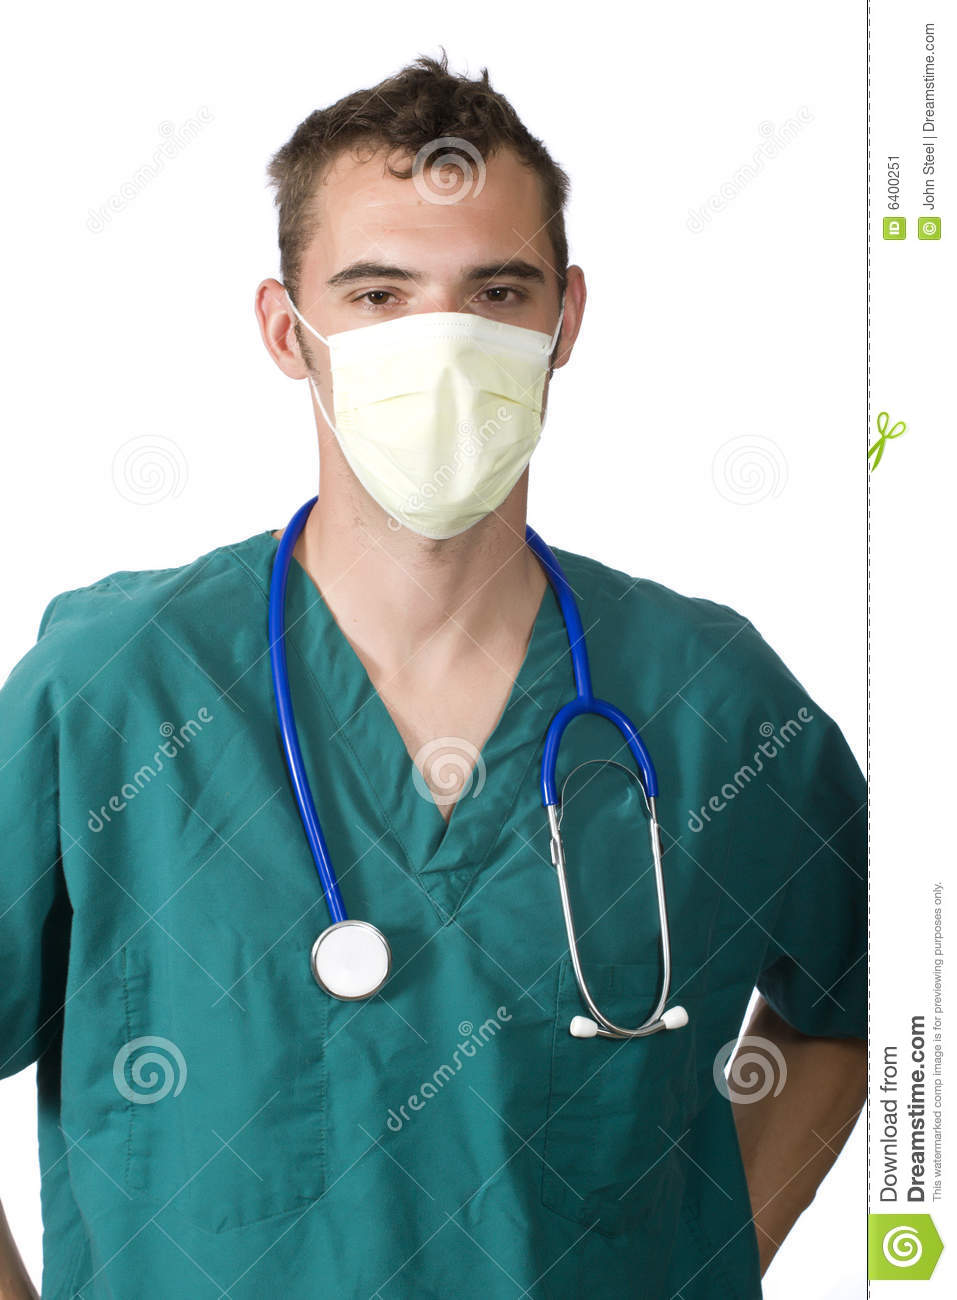mask: (320, 323, 586, 551)
